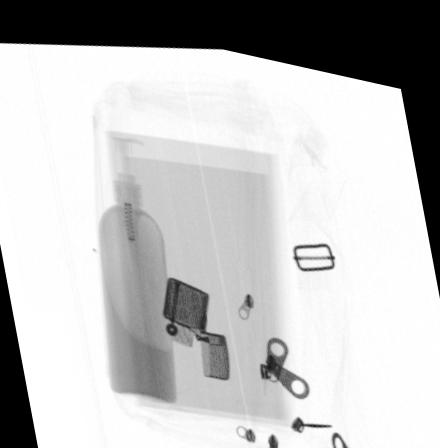Lighter: (161, 269, 229, 370)
